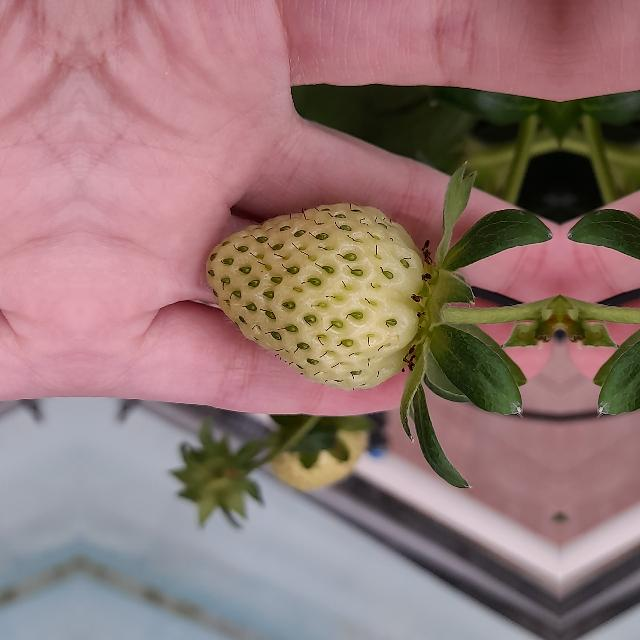Health_25: (205, 202, 423, 390)
